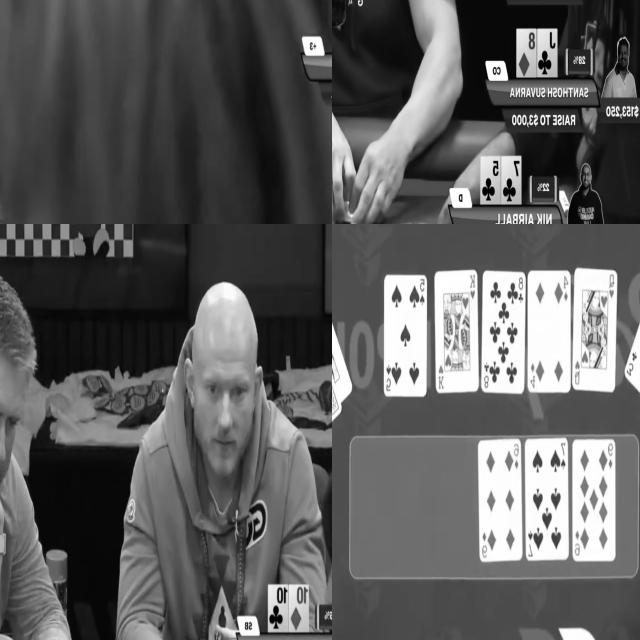10D: (290, 585, 308, 631)
5C: (481, 156, 501, 204)
7C: (502, 157, 521, 204)
8D: (517, 30, 536, 78)
JC: (538, 30, 556, 77)
